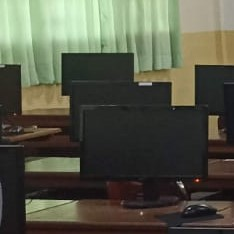monitor: (78, 104, 209, 208), (70, 80, 172, 141), (61, 52, 135, 96), (194, 64, 233, 144), (0, 144, 26, 229), (0, 64, 22, 116)
